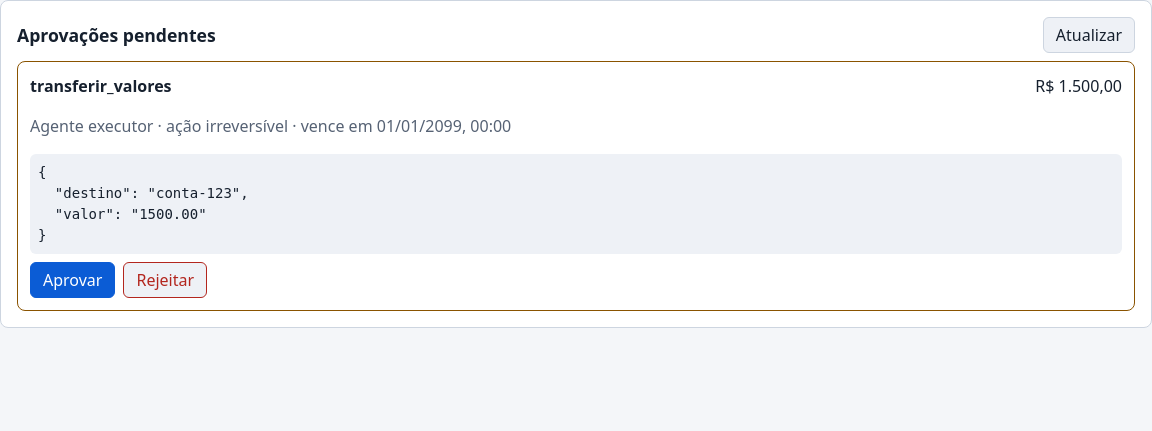
Test: InboxPanel › depois de um 403, Atualizar reabilita os botões (flag recuperável)
What coordinates should you click on to do the following:
click the button "Aprovar"
I would click on:
 (73, 280)
Its box is [30,262,115,298].
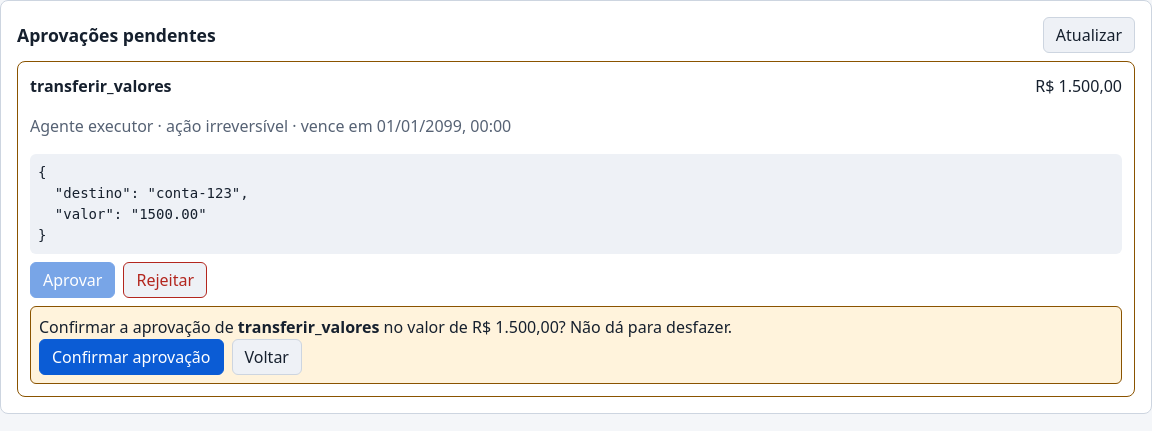
What coordinates should you click on to do the following:
click the button "Confirmar aprovação"
I would click on:
 (131, 357)
Its box is [39,339,224,375].
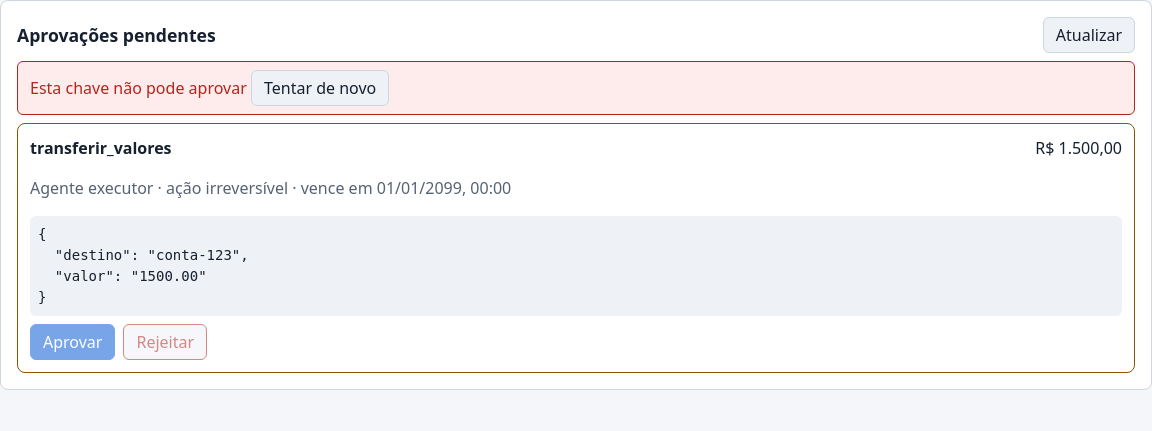
Result: the button "Aprovar" is disabled at [30,324,115,360]
Result: the text "Esta chave não pode aprovar" is shown at [30,77,247,99]
What coordinates should you click on to do the following:
click the button "Atualizar"
I would click on:
 (1089, 35)
Its box is [1043,17,1135,53].
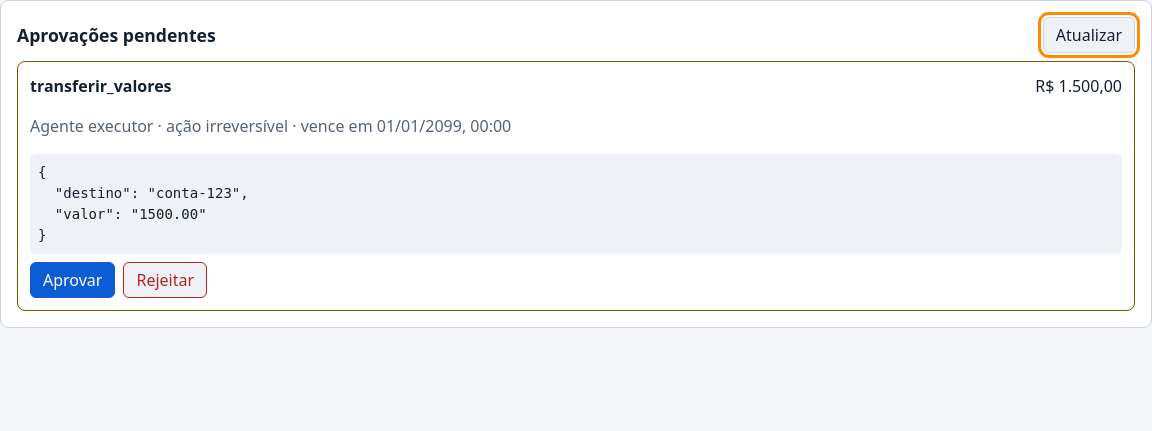
Result: the button "Aprovar" is enabled at [30,262,115,298]
Result: the text "Esta chave não pode aprovar" is gone
